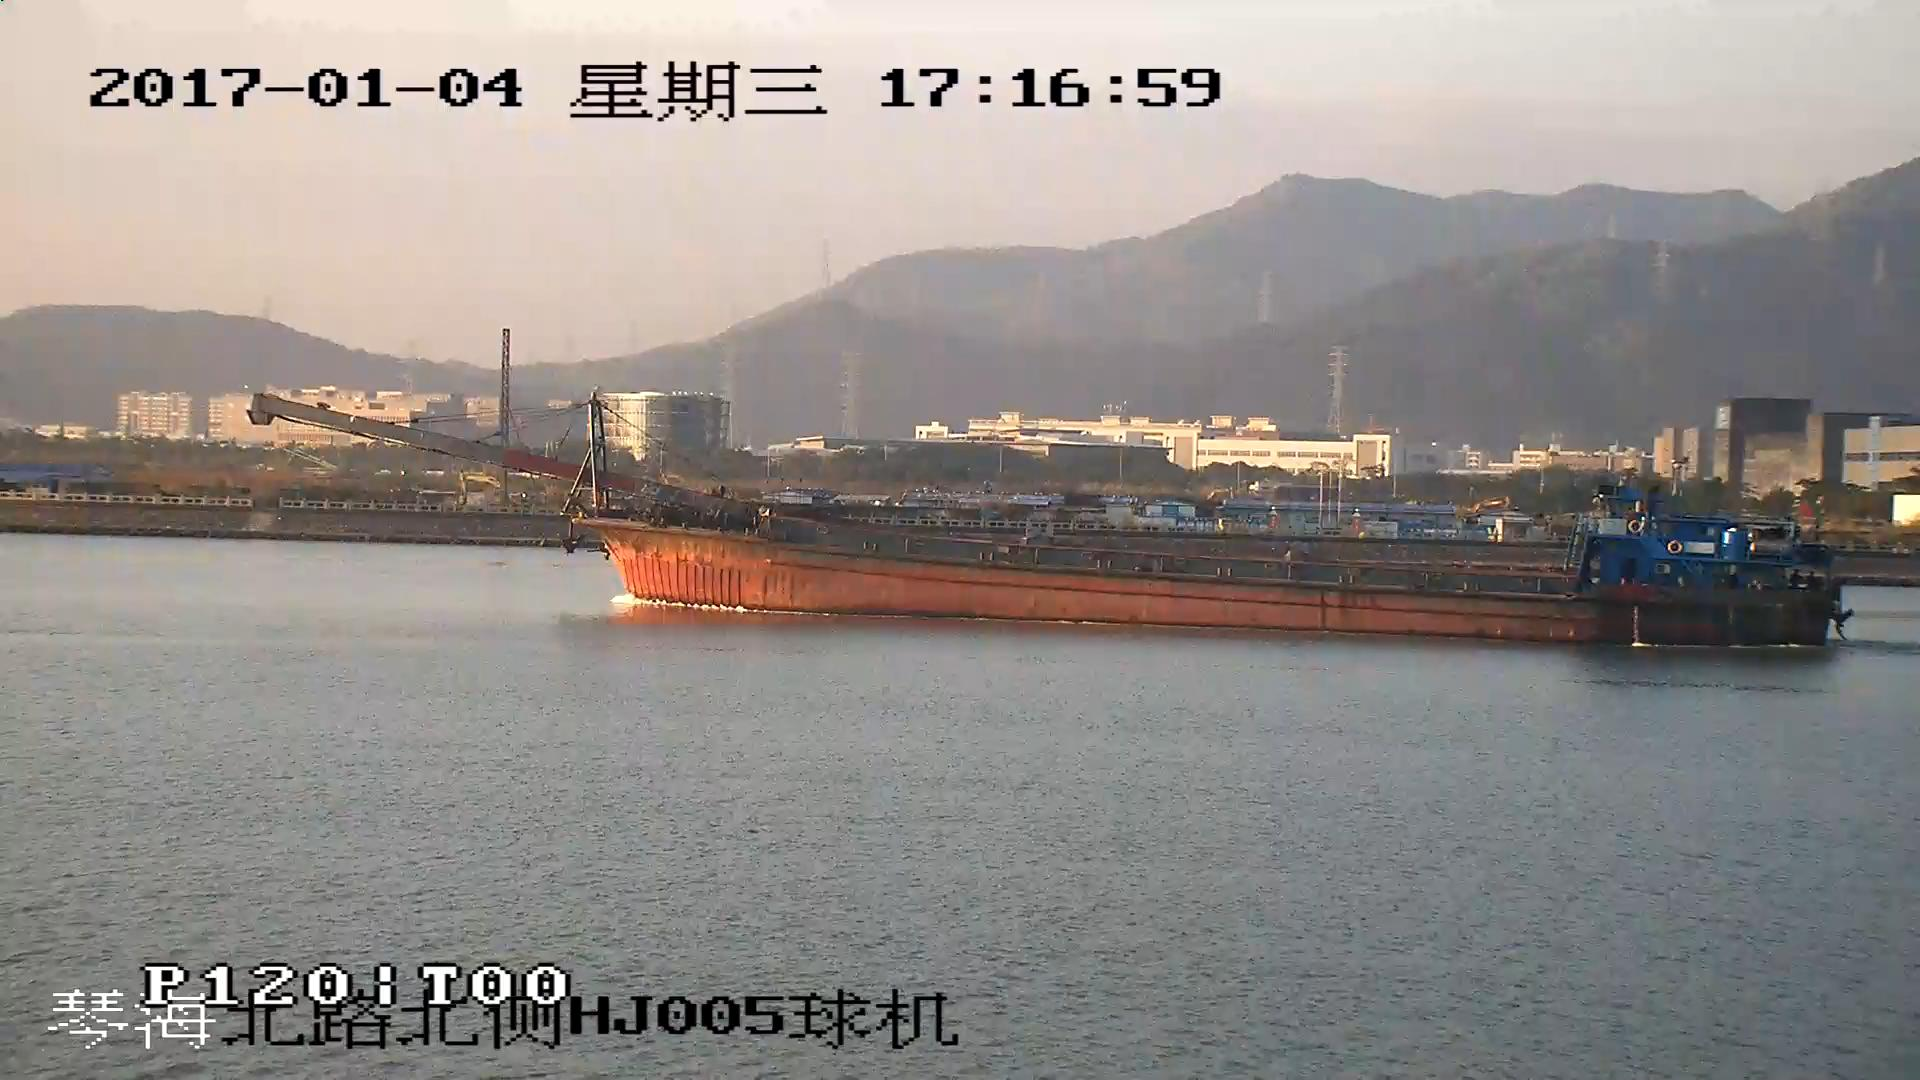bulk cargo carrier: (256, 390, 1846, 648)
